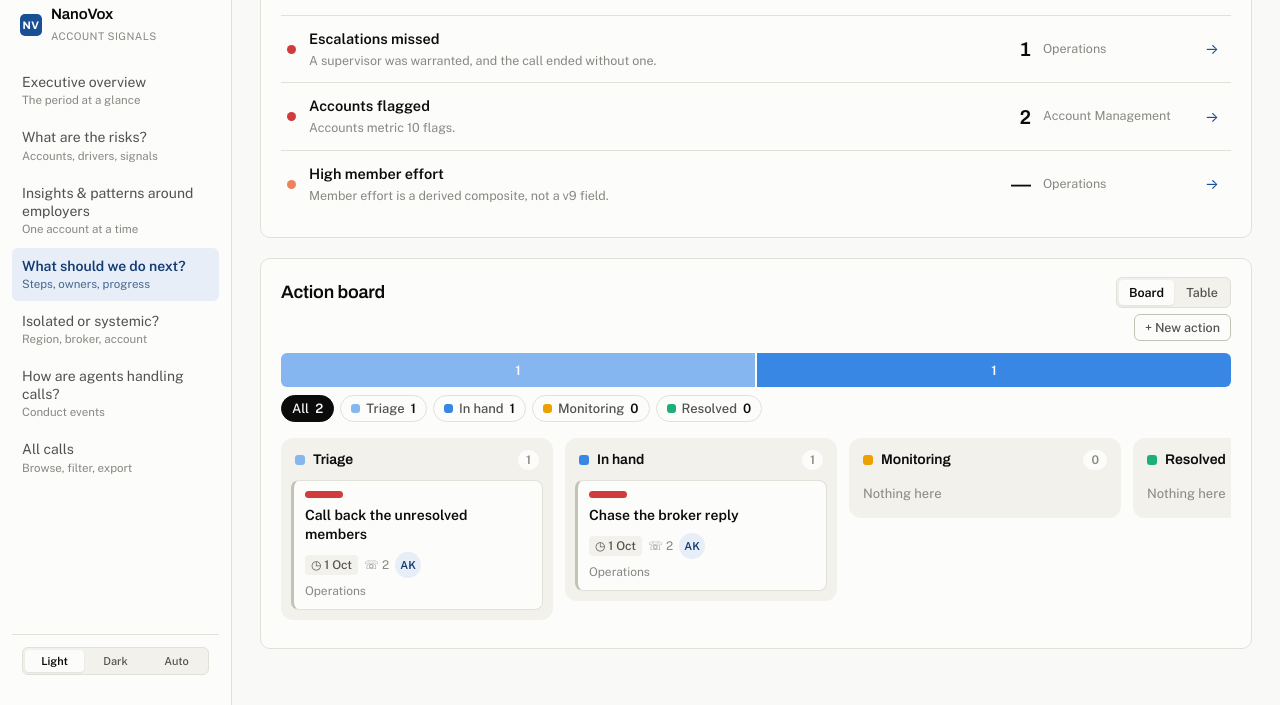
Test: the action board › filters the board to one stage from the stage chips
(page scrolled)
expect the text "Chase the broker reply" is shown: met, box x1=589 y1=506 x2=739 y2=525
What coordinates should you click on to do the following:
click the button "Triage 1"
I would click on:
 (384, 409)
Its box is x1=340 y1=395 x2=427 y2=422.
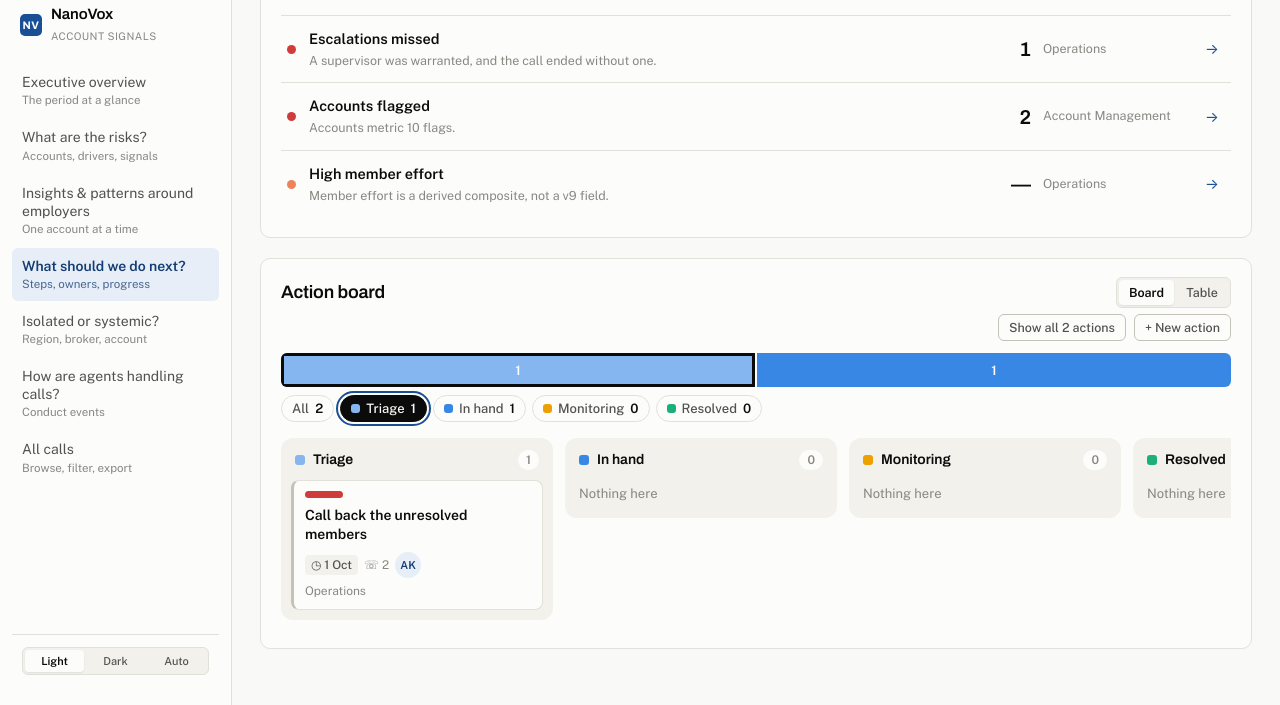
expect the text "Call back the unresolved members" is shown: met, box x1=305 y1=507 x2=468 y2=542
expect the button "Chase the broker reply" is gone: met
expect the button "Show all 2 actions" is shown: met, box x1=998 y1=314 x2=1126 y2=341
